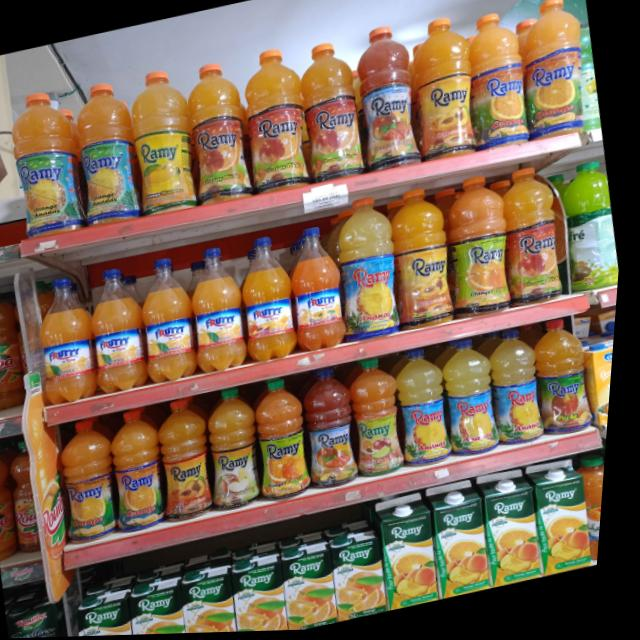obei_carton: (586, 344, 619, 433)
ramy_carton: (474, 465, 559, 593), (530, 457, 611, 581), (374, 492, 452, 614), (425, 481, 502, 604), (281, 530, 353, 633), (336, 524, 403, 624), (232, 544, 302, 634), (183, 555, 255, 635), (132, 569, 204, 636), (82, 589, 150, 637)
ramy_plastique: (2, 84, 99, 241), (434, 173, 531, 327), (118, 65, 214, 220), (395, 15, 490, 171), (63, 77, 157, 232), (175, 59, 267, 212), (506, 0, 601, 148), (231, 46, 322, 200), (452, 10, 545, 159), (287, 38, 378, 190), (344, 25, 432, 180), (491, 165, 579, 314), (324, 199, 415, 343), (376, 186, 462, 338), (30, 273, 114, 409), (82, 264, 164, 400), (132, 254, 214, 389), (184, 243, 264, 380), (201, 386, 282, 517), (152, 397, 233, 527), (235, 230, 313, 365), (56, 416, 137, 543), (280, 225, 357, 358), (105, 406, 185, 534), (297, 369, 373, 495), (252, 378, 325, 507), (390, 353, 464, 471), (440, 341, 513, 456), (529, 323, 604, 432), (486, 336, 559, 446), (348, 364, 415, 481), (185, 260, 218, 303)
rouiba_carton: (13, 589, 90, 639)
rouiba_plastique: (6, 441, 58, 551), (0, 288, 43, 416)
tchina_plastique: (581, 464, 612, 569)
